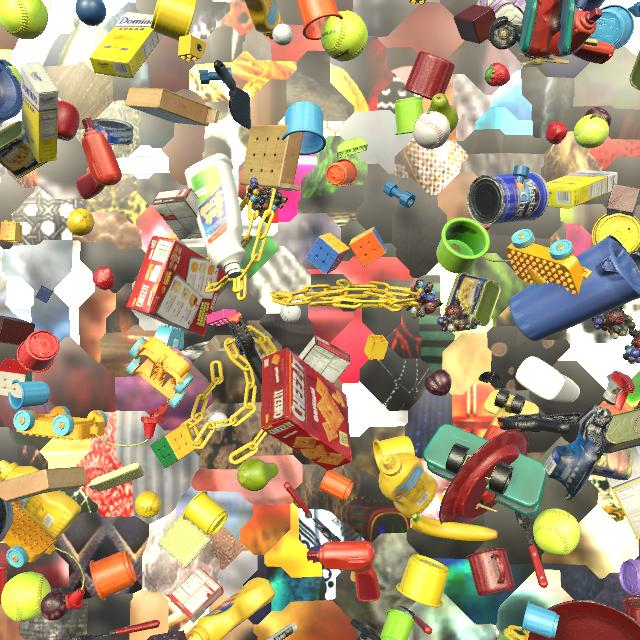ycb_002_master_chef_can: (467, 172, 549, 225)
ycb_003_cracker_box: (261, 348, 352, 471), (126, 236, 226, 336)
ycb_004_sugar_box: (89, 12, 164, 78), (21, 62, 58, 163), (606, 446, 640, 539), (547, 170, 618, 208)
ycb_006_mustard_bottle: (0, 460, 82, 540), (189, 578, 275, 640), (379, 452, 438, 518), (244, 0, 281, 39), (0, 472, 3, 482)
ycb_007_tuna_fish_can: (92, 119, 133, 145)
ycb_008_pudding_box: (298, 335, 351, 384), (153, 188, 202, 240)
ycb_009_gelatin_box: (169, 567, 224, 623)
ycb_010_potted_meat_can: (445, 272, 501, 326), (0, 121, 47, 178), (603, 408, 640, 453), (591, 448, 633, 480), (630, 51, 640, 90)
ycb_011_banana: (411, 513, 498, 541), (527, 267, 546, 285)
ycb_012_strawberry: (484, 63, 510, 87), (93, 267, 115, 290), (545, 122, 567, 144)
ycb_013_apple: (57, 100, 80, 141)
ycb_014_lemon: (67, 208, 94, 236), (135, 491, 161, 518)
ycb_016_pear: (237, 459, 278, 491), (427, 93, 458, 133)
ycb_018_plum: (40, 590, 68, 621), (424, 369, 452, 396), (585, 107, 611, 127)
